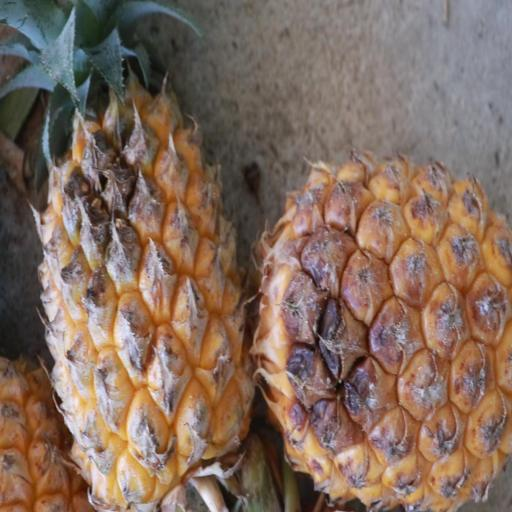Pineapple - v8 v1: (35, 4, 256, 512), (251, 162, 511, 512)
